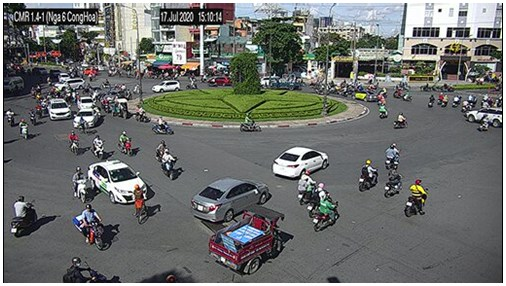xe_ba_gac: (209, 205, 284, 275)
xe_dap: (132, 184, 148, 225)
xe_hoi: (189, 178, 270, 222), (89, 159, 146, 202), (272, 147, 330, 179), (464, 109, 502, 128), (46, 98, 70, 121), (73, 108, 100, 127), (54, 77, 85, 90), (151, 80, 180, 92), (209, 76, 232, 86), (77, 96, 94, 109)
xe_may: (72, 204, 105, 252), (11, 195, 39, 238), (63, 258, 108, 283), (311, 191, 337, 233), (405, 180, 429, 218), (307, 183, 332, 217), (297, 169, 317, 205), (358, 159, 378, 192), (384, 165, 403, 198), (72, 166, 88, 204), (161, 148, 175, 181), (240, 112, 261, 134), (152, 116, 172, 137), (118, 130, 133, 157), (385, 143, 400, 170), (69, 130, 81, 157), (155, 141, 169, 163), (90, 135, 103, 158), (393, 112, 409, 130), (18, 117, 29, 141), (134, 106, 148, 122), (29, 107, 38, 127), (480, 113, 489, 133), (102, 96, 111, 115), (399, 89, 411, 103), (6, 109, 15, 127), (378, 103, 388, 118), (451, 95, 461, 107), (338, 86, 348, 98), (35, 103, 42, 120), (467, 93, 476, 106), (427, 94, 435, 108), (463, 99, 471, 113), (187, 80, 195, 90), (442, 93, 448, 106), (437, 92, 443, 104)
